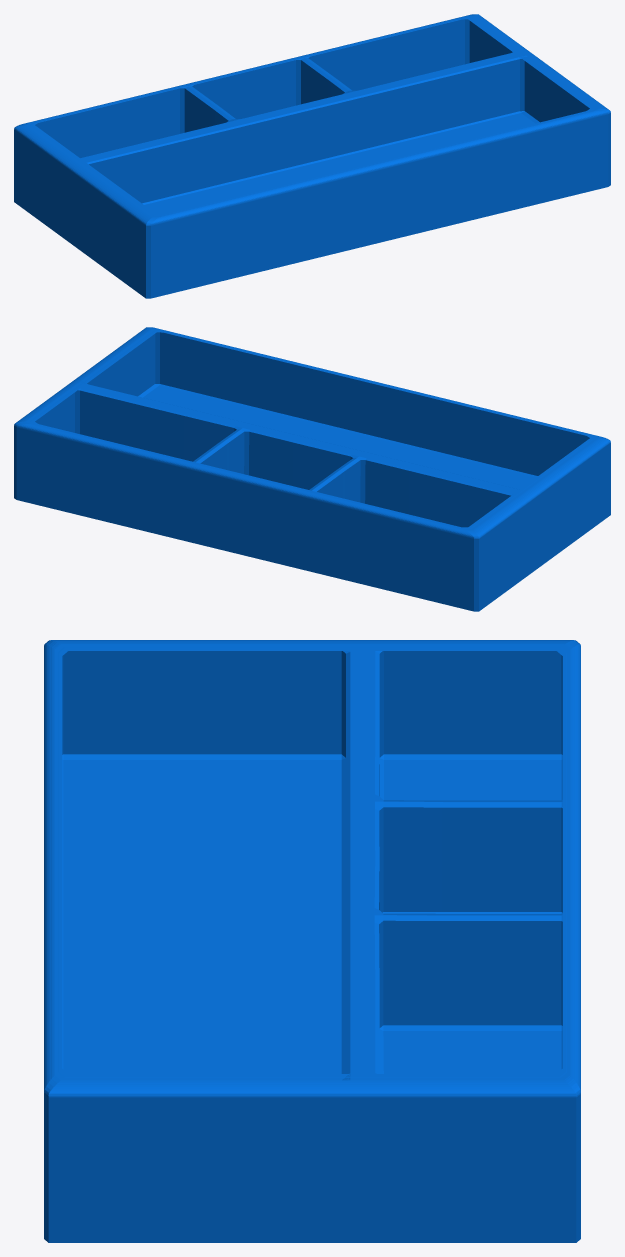
Rendered from Plateau-De-Soins-Projet-Doceo 1.fbx.
The picture shows the model from 3 angles, top to bottom: view 1: azimuth 30°, elevation 25°; view 2: azimuth 150°, elevation 25°; view 3: azimuth 270°, elevation 25°; orthographic projection. The views are drawn at different scales.
Visible parts, largest first — view 1: Plateau-De-Soins; view 2: Plateau-De-Soins; view 3: Plateau-De-Soins.
Boxes of the visible parts, <box> form: Plateau-De-Soins: <box>14,14,610,298</box>; Plateau-De-Soins: <box>14,327,610,611</box>; Plateau-De-Soins: <box>44,640,580,1242</box>.
Bounding box in the file's own units: 20.01 × 3.2 × 10.
